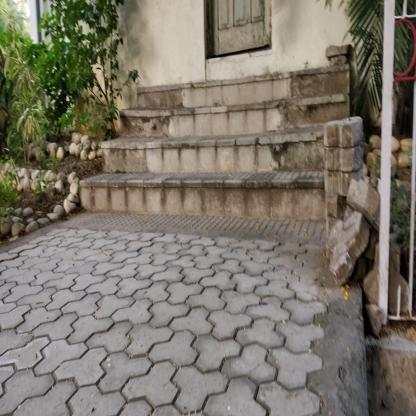stairs: (150, 81, 292, 242)
